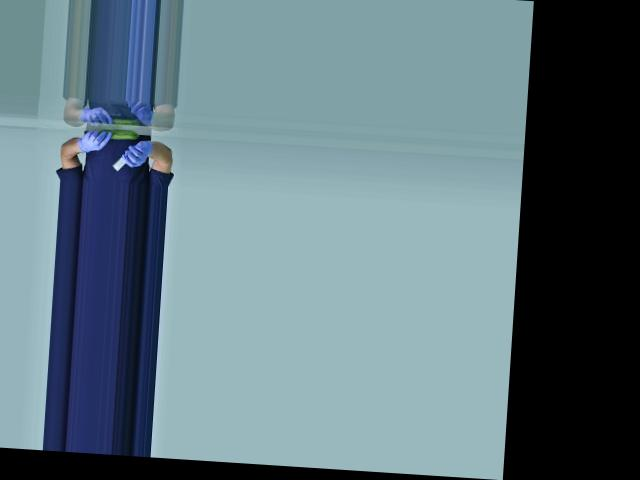cucumber: (99, 128, 139, 140)
